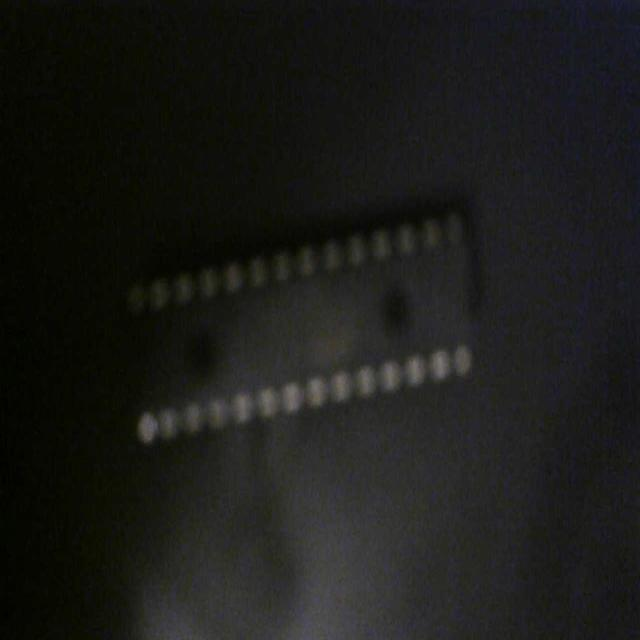atmega: (120, 186, 488, 452)
